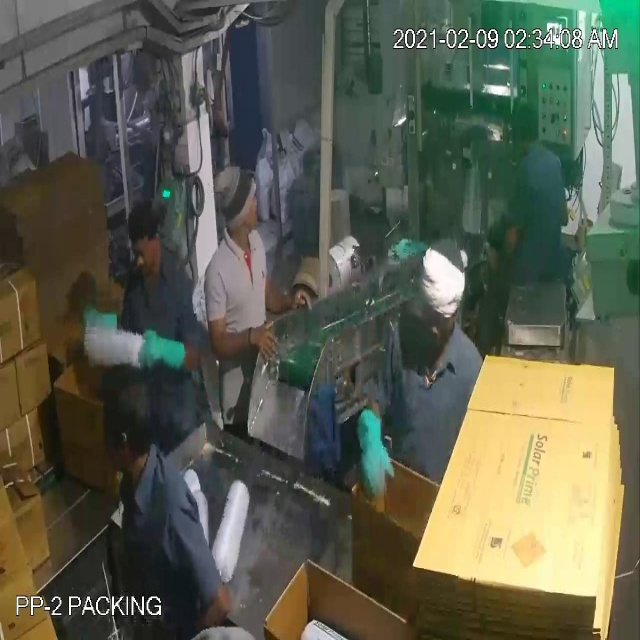Guantes: (344, 391, 394, 510), (131, 316, 198, 388)
Sin_guantes: (201, 301, 280, 371), (168, 575, 239, 640), (259, 266, 316, 328)
